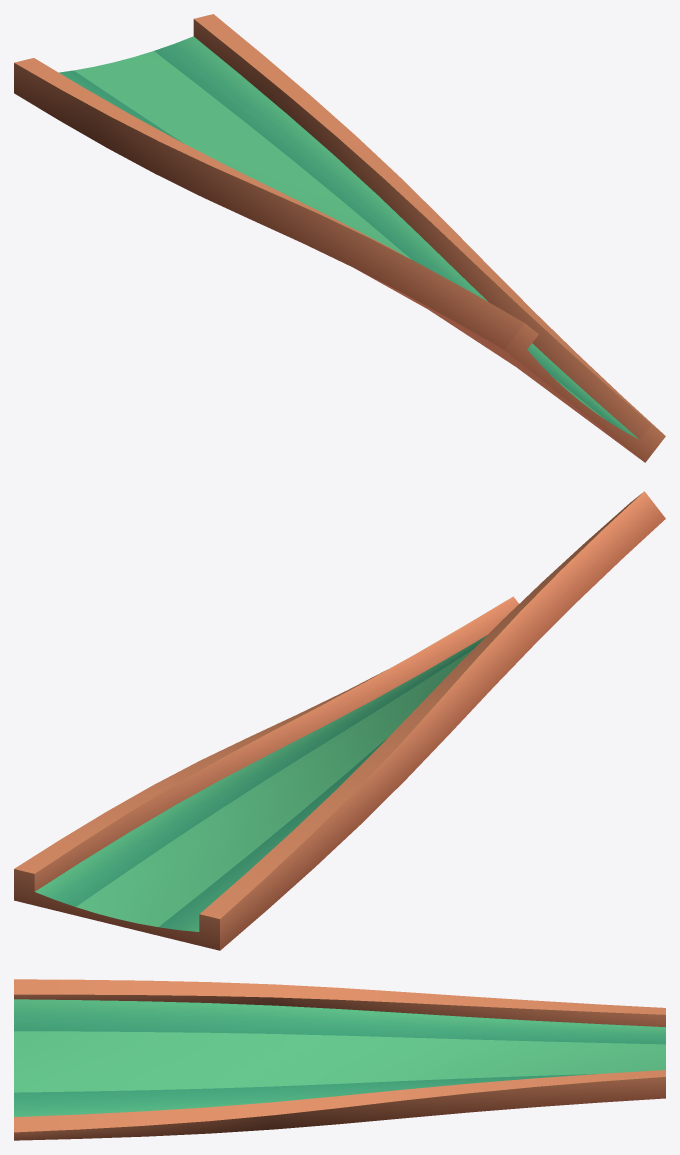
File: spline-concave-straight-skew-left.glb
3 views of the same model, one above another, from view 1: azimuth 30°, elevation 25°; view 2: azimuth 150°, elevation 25°; view 3: azimuth 270°, elevation 25° (orthographic). The views are drawn at different scales.
Parts seen in each view (by area): view 1: spline-concave-straight-skew-left; view 2: spline-concave-straight-skew-left; view 3: spline-concave-straight-skew-left.
Boxes of the visible parts, x1,y1,x2,y2 form: spline-concave-straight-skew-left: (14,14,665,462); spline-concave-straight-skew-left: (14,491,665,950); spline-concave-straight-skew-left: (14,979,665,1140).
Bounding box in the file's own units: 1.02 × 0.8106 × 4.
1 material, 1 textured.
